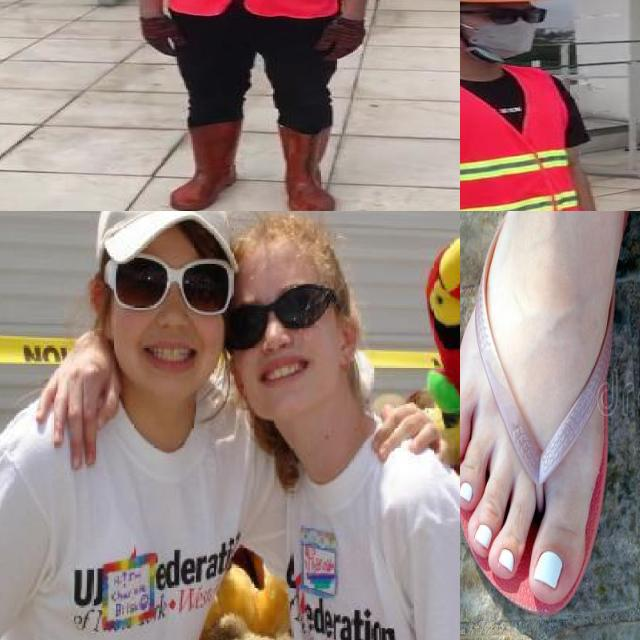Sandals: (460, 211, 640, 616)
boots: (168, 120, 239, 211), (275, 123, 337, 211)
face_mask: (461, 1, 546, 59)
face_nomask: (109, 252, 225, 380), (228, 288, 323, 389)
glasses: (98, 250, 235, 322), (218, 283, 338, 356), (478, 0, 554, 29)
hand_glove: (318, 22, 366, 62), (143, 13, 184, 58)
hand_noglove: (37, 342, 117, 463), (372, 400, 446, 472)
head_nohelmet: (223, 211, 329, 284), (94, 211, 237, 261)
person: (0, 211, 271, 640), (227, 225, 460, 640), (117, 0, 380, 211), (460, 0, 640, 211)
vest: (460, 62, 587, 211)
